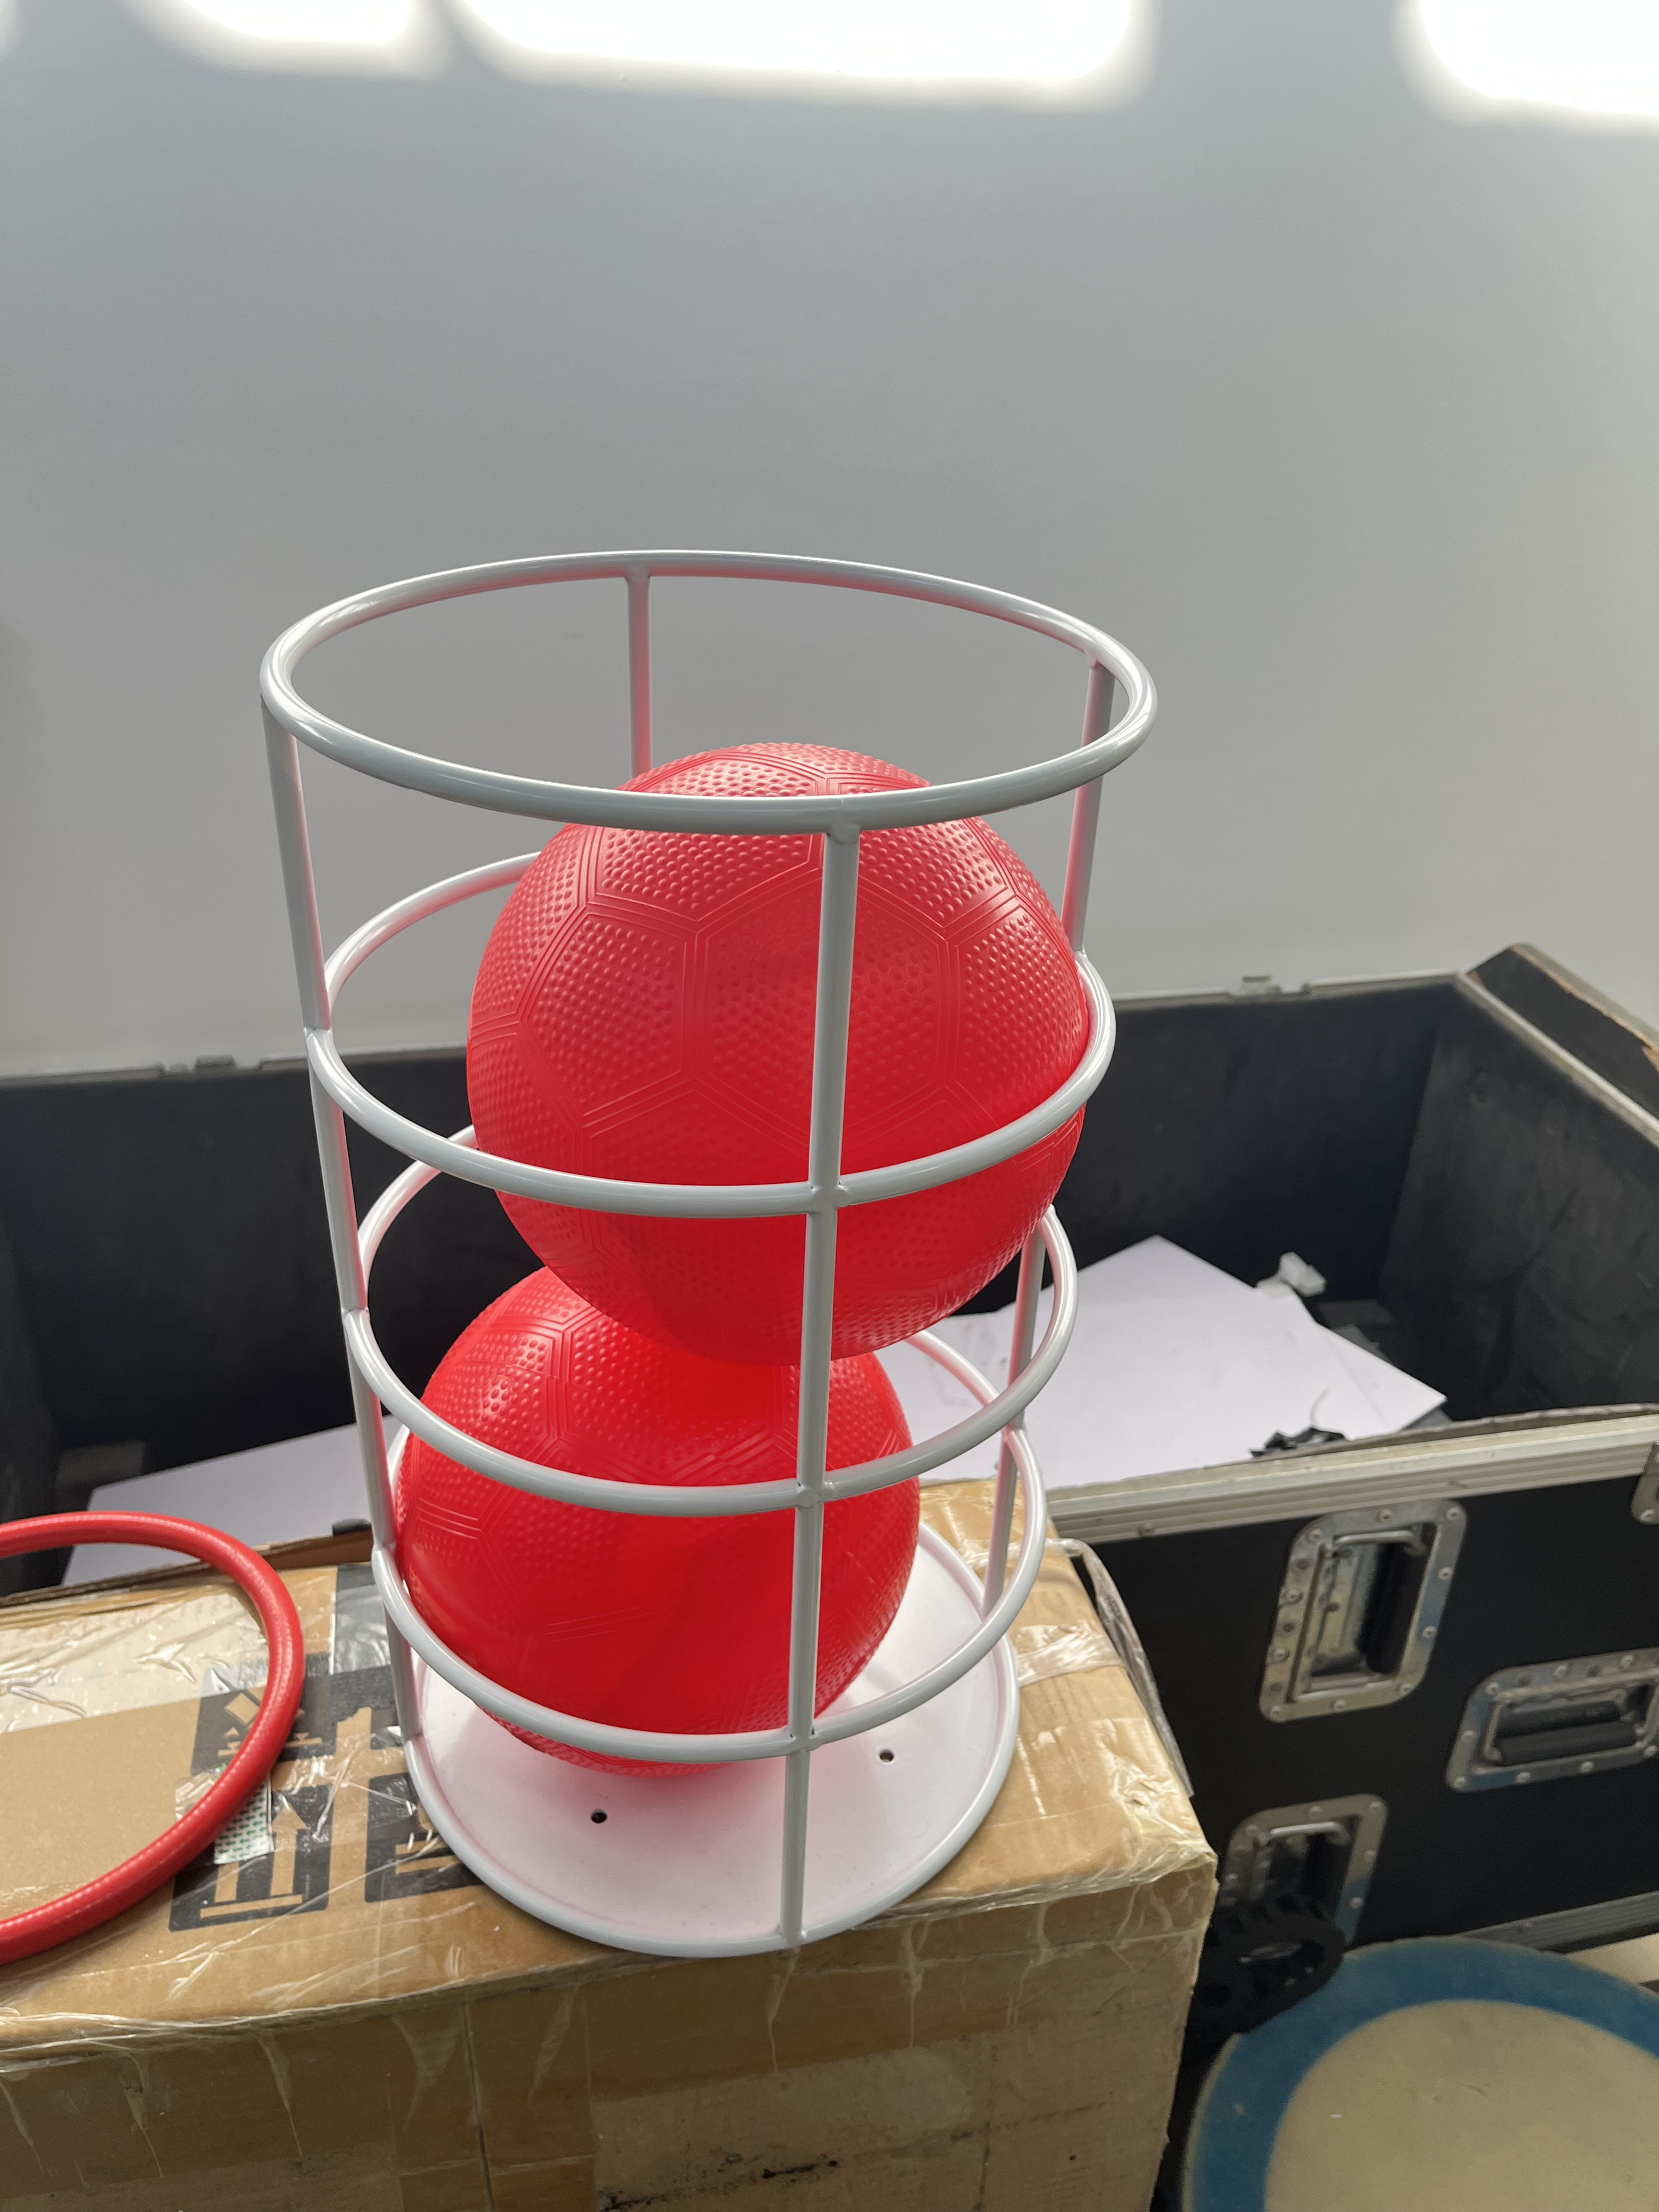blacket: (220, 500, 1161, 2006)
red: (464, 718, 1114, 1381), (387, 1256, 936, 1791)
